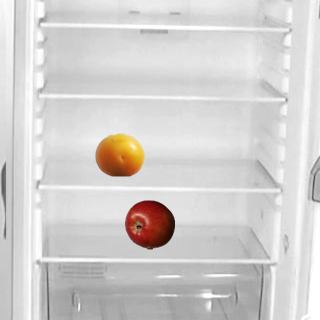Apple Braeburn: (124, 199, 174, 249)
Cherry Wax Yellow: (94, 129, 144, 179)
